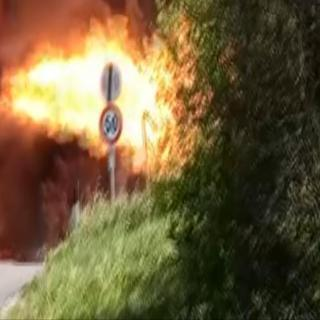smoke: (0, 117, 130, 266), (6, 0, 205, 27)
